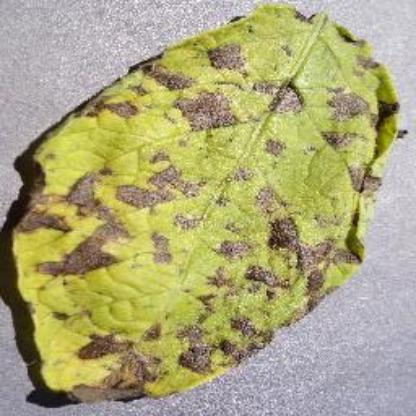Early-Blight: (9, 5, 404, 406)
